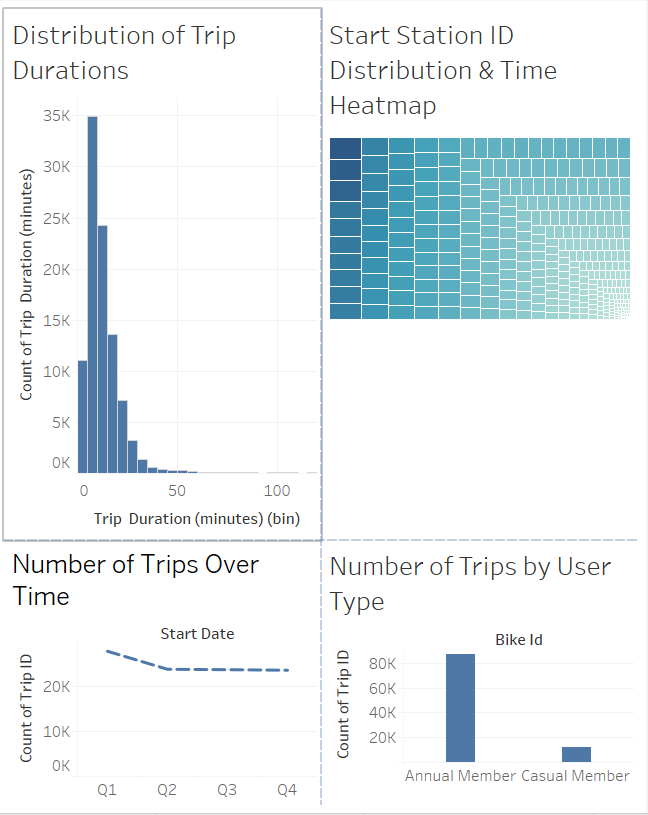

Layout of this report page (visuals, bound fields, positions):
{"tool":"tableau","page":{"name":"Dashboard 1","canvas":[1000,1000],"units":"permille","ordinal":0},"visuals":[{"type":"worksheet","title":"Distribution of Trip Durations","mark":"Automatic","rows":["Trip  Duration (minutes)"],"cols":["Trip  Duration (minutes) (bin)"],"box":[12.3,9.8,487.7,653.5]},{"type":"worksheet","title":"Start Station ID Distribution & Time Heatmap","mark":"Automatic","box":[500,9.8,487.7,653.5]},{"type":"worksheet","title":"Number of Trips Over Time","mark":"Automatic","rows":["Trip ID"],"cols":["Start Date"],"box":[12.3,663.4,487.7,326.8]},{"type":"worksheet","title":"Number of Trips by User Type","mark":"Automatic","rows":["Trip ID"],"cols":["Bike Id"],"box":[500,663.4,487.7,326.8]}]}

Visuals, with their boxes on the dashboard's canvas, which has no fixed pixel size, in thousandths of its width and height (x1, y1, x2, y2). These are canvas units, not pixel positions in the 648x815 screenshot, which may show the page scaled, cropped or inside an application window:
"Distribution of Trip Durations" worksheet: BBox(12, 10, 500, 663)
"Start Station ID Distribution & Time Heatmap" worksheet: BBox(500, 10, 988, 663)
"Number of Trips Over Time" worksheet: BBox(12, 663, 500, 990)
"Number of Trips by User Type" worksheet: BBox(500, 663, 988, 990)
